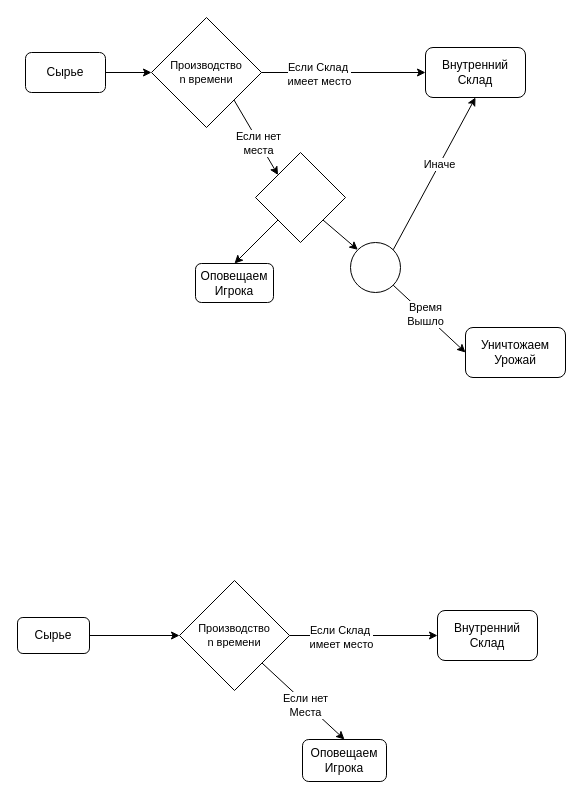
Image size: 583x799. Some labels were removed from this diagram. The box of each missing label's shape, as (x1, y1, x2, y2) in pixels:
Время: (350, 242, 400, 292)
Урожай Портится: (254, 152, 346, 242)
